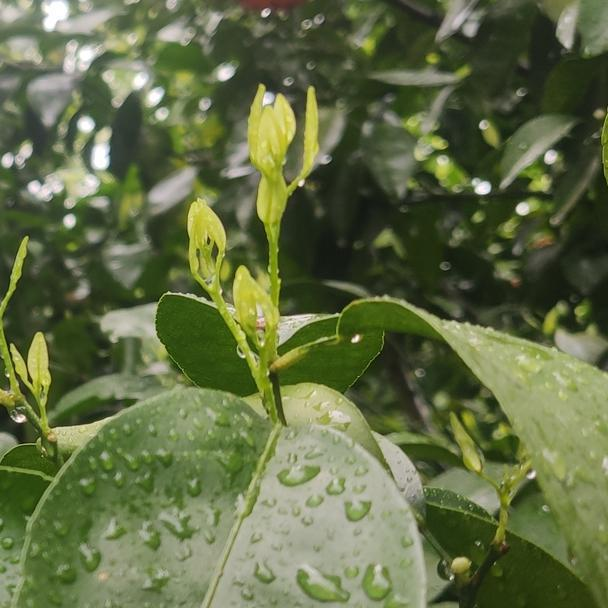shoot: (234, 88, 326, 241), (175, 207, 243, 307), (234, 280, 284, 374), (16, 341, 62, 417)
